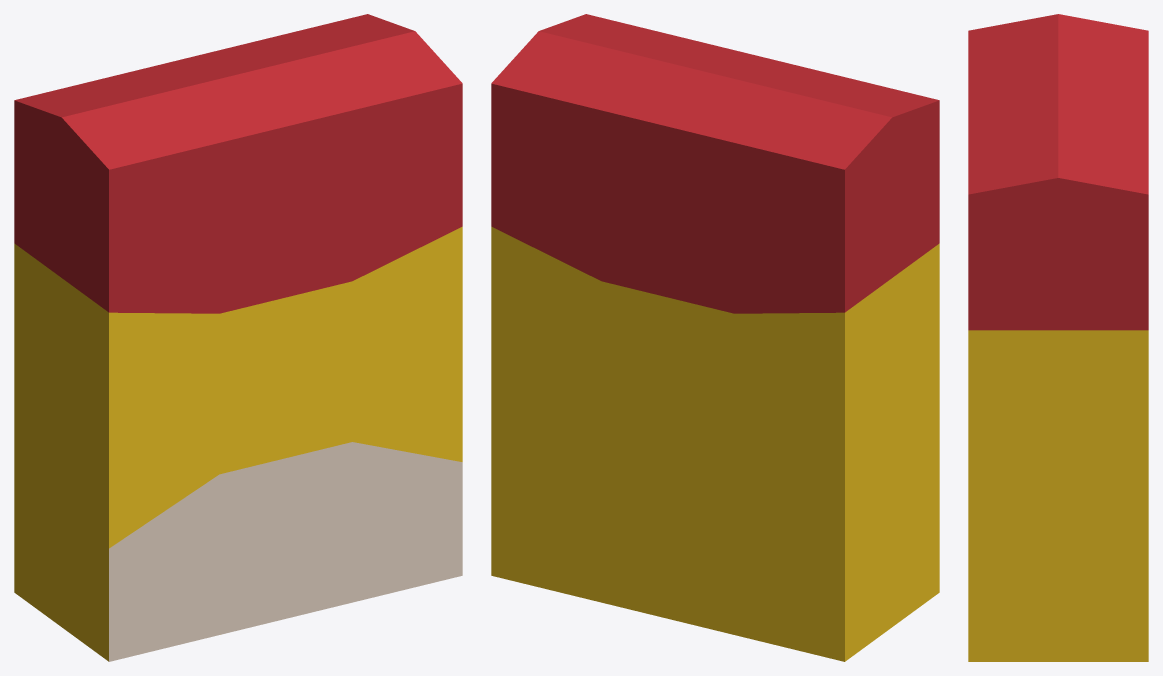
Rendered from rice-box.glb.
3 renders of one model, left to right at view 1: azimuth 30°, elevation 25°; view 2: azimuth 150°, elevation 25°; view 3: azimuth 270°, elevation 25°, orthographic. The views are drawn at different scales.
Visible parts, largest first — view 1: rice-box; view 2: rice-box; view 3: rice-box.
Part boxes in pixels (x1=…): rice-box: x1=14, y1=14, x2=462, y2=661; rice-box: x1=491, y1=14, x2=939, y2=661; rice-box: x1=968, y1=14, x2=1148, y2=661.
Bounding box in the file's own units: 0.1504 × 0.2072 × 0.07.
Materials: 1 (1 with a texture image).
